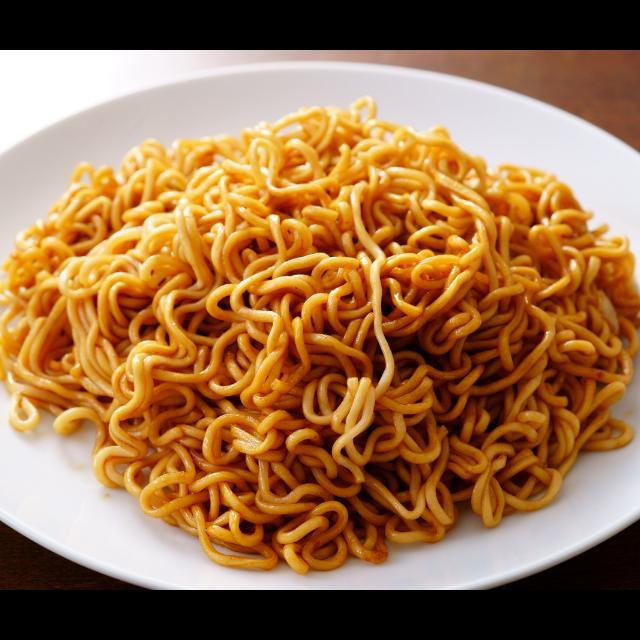food_waste: (51, 170, 601, 478)
